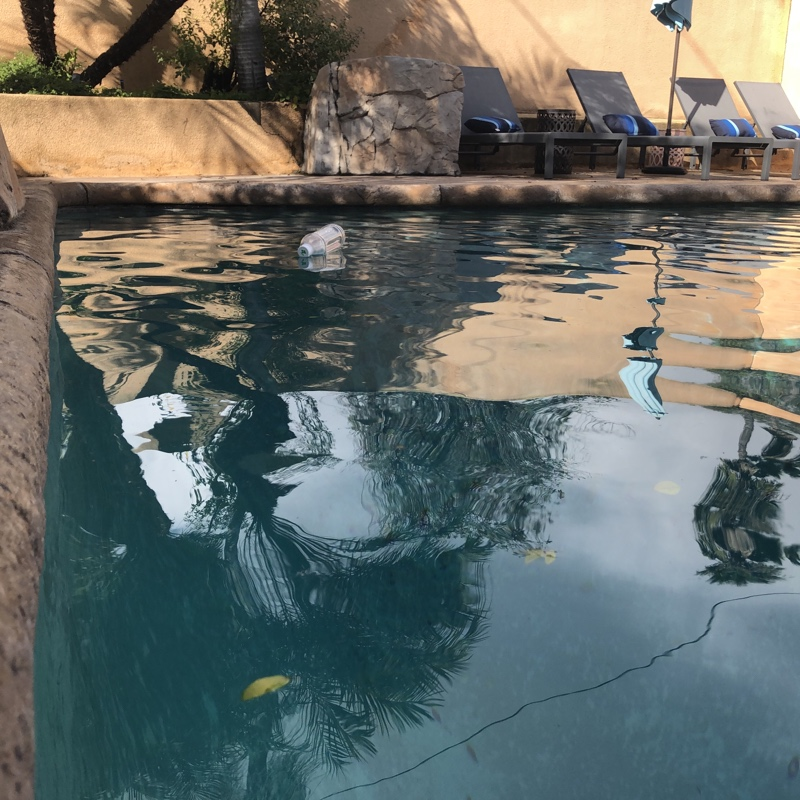Plastic Bottle: (295, 223, 347, 256)
